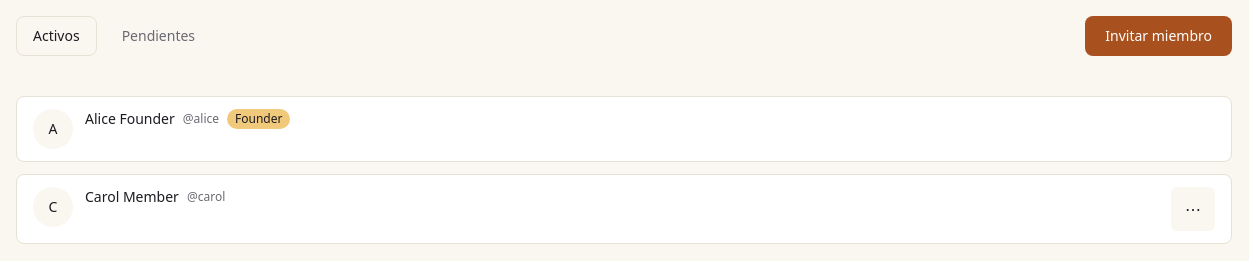
Test: <MembersPageShell /> › click tab 'Pendientes' → cambia a PendingInvitationsTab
Step 1. Click the tab "Pendientes" → (158, 36), box [105,16,212,56]
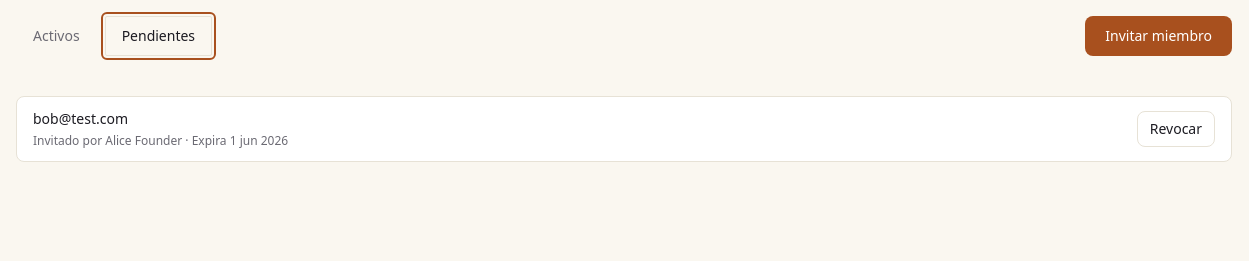
Expected: the text "bob@test.com" is shown, [33,109,128,128]
Expected: the text "Carol Member" is gone
